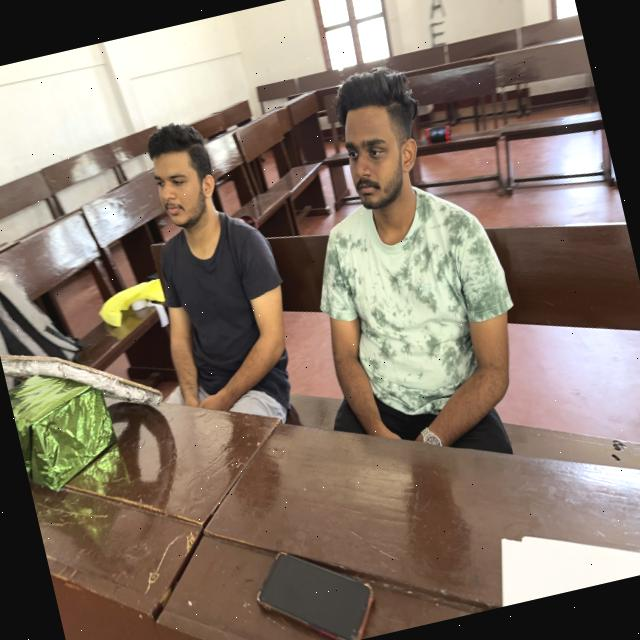no-seatbelt: (299, 162, 547, 503), (149, 211, 315, 461)
